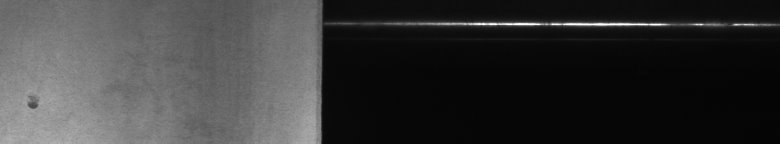fi: (23, 88, 44, 116)
